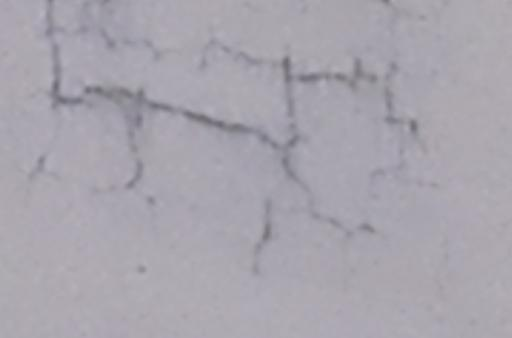fissura: (12, 5, 426, 250)
